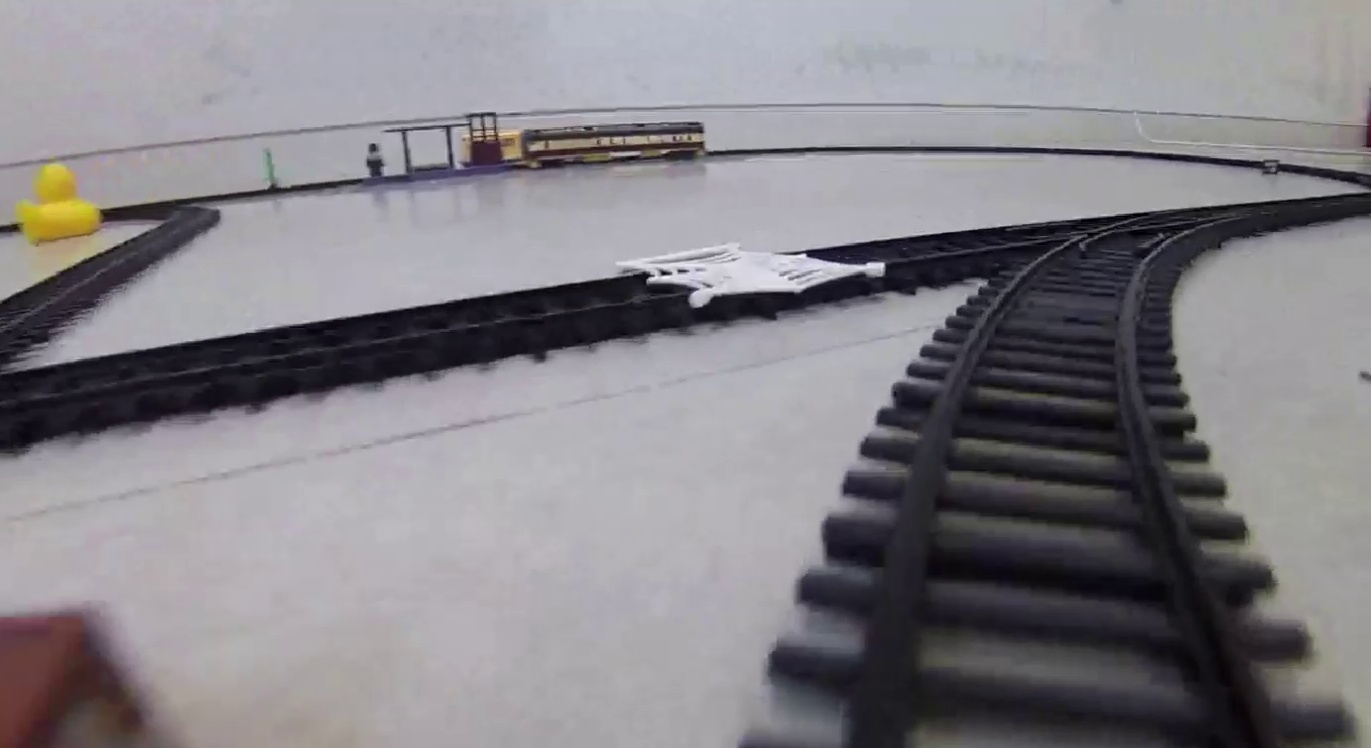web: (617, 241, 887, 309)
